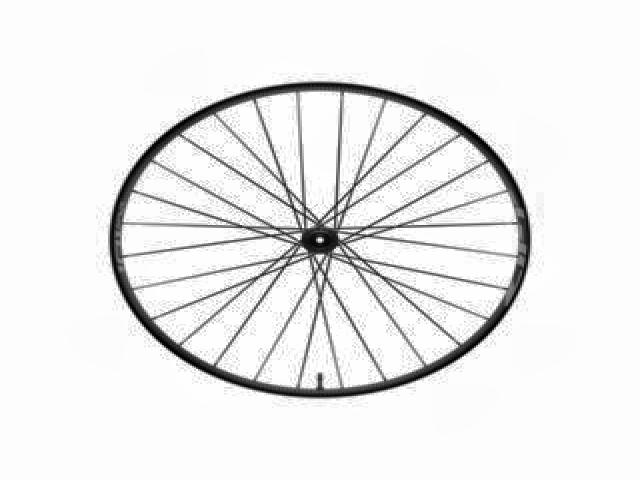wheel: (102, 80, 534, 402)
